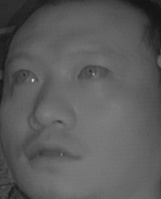eye: (77, 61, 112, 84), (8, 66, 41, 86)
mouth: (24, 135, 80, 170)
